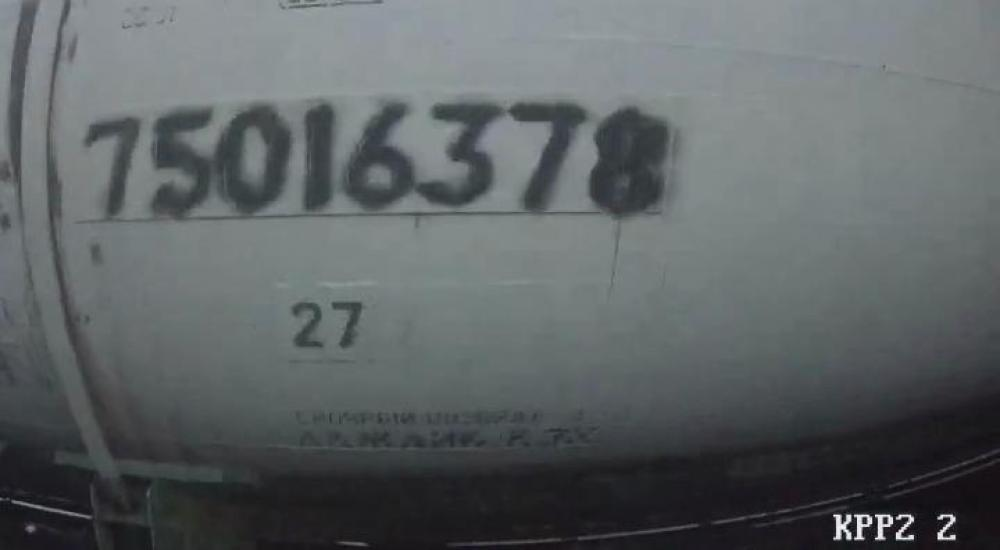Wagon-number: (80, 97, 681, 226)
